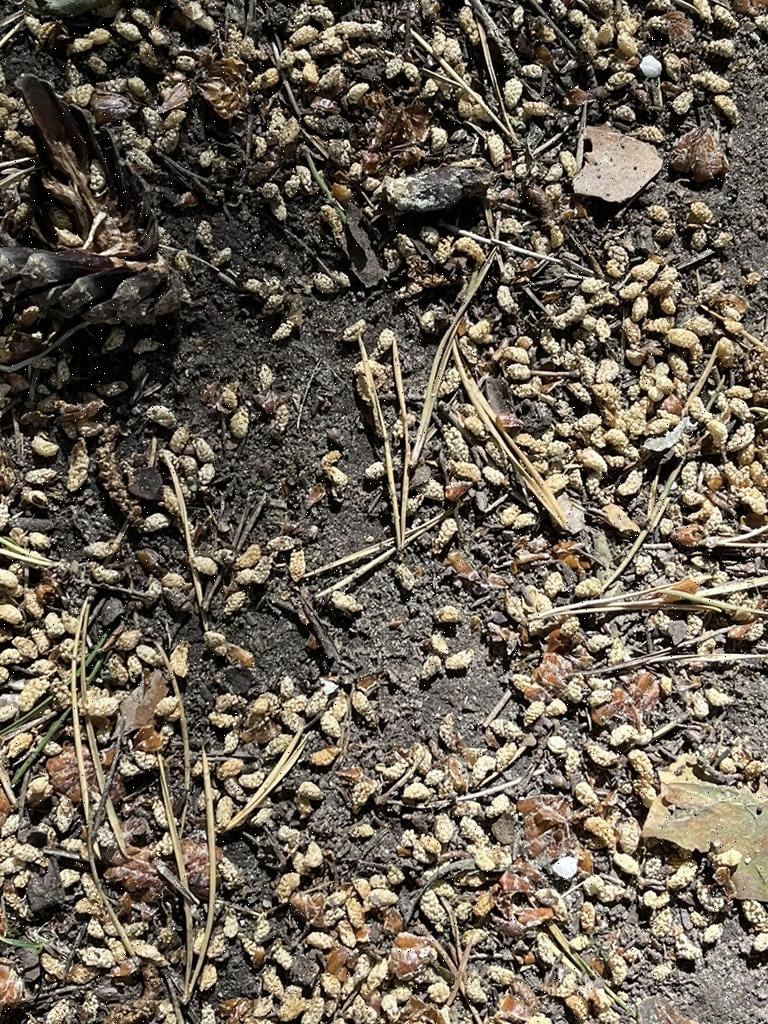pine: (0, 73, 206, 365)
